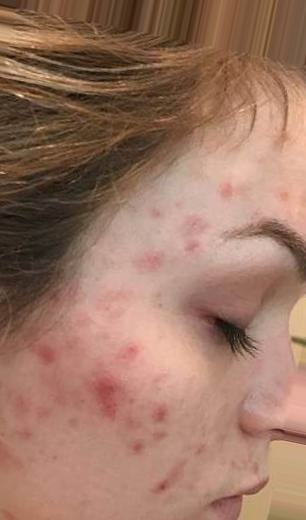Acne: (25, 183, 250, 487)
